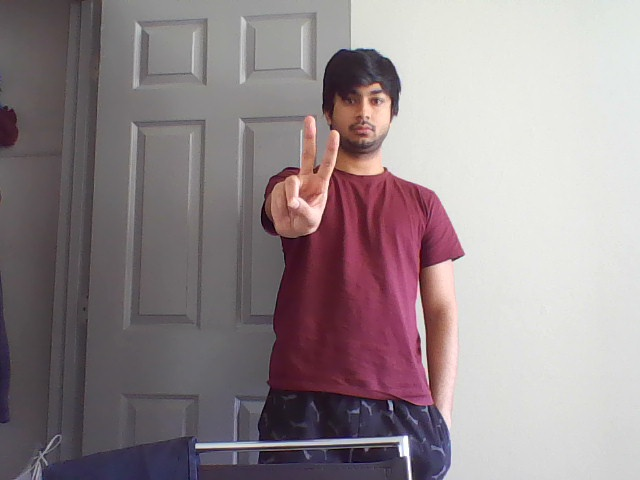two: (292, 111, 343, 193)
